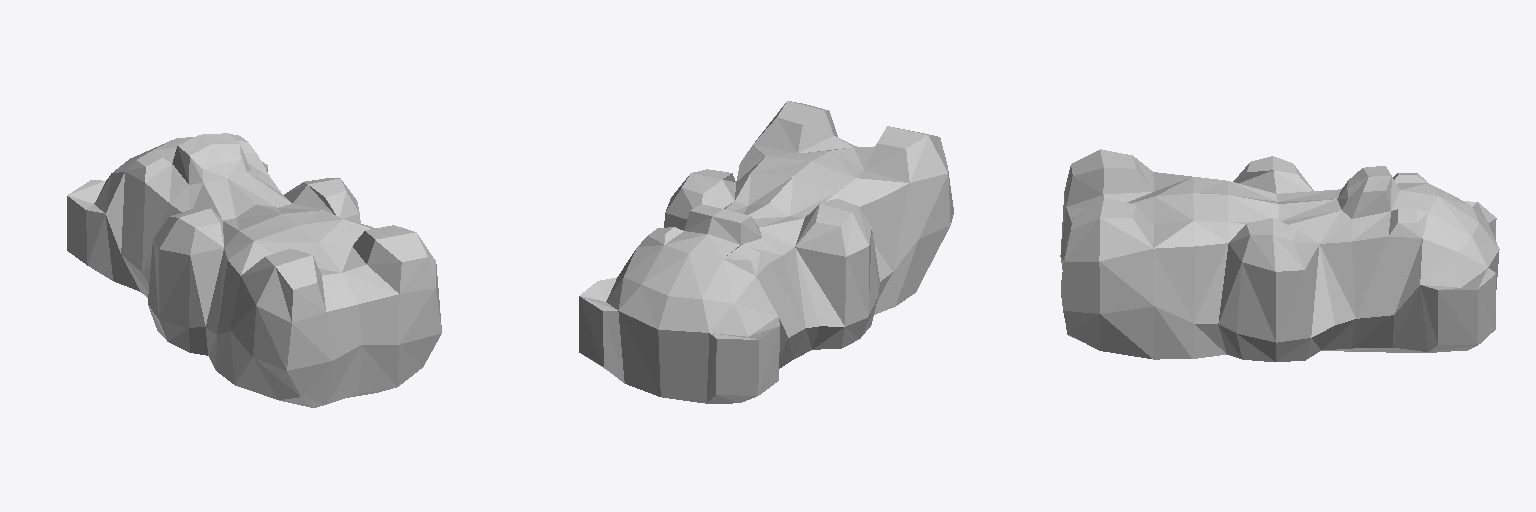
Rendered from gummy bear.obj.
3 renders of one model, left to right at view 1: azimuth 30°, elevation 25°; view 2: azimuth 150°, elevation 25°; view 3: azimuth 270°, elevation 25°, orthographic.
Parts seen in each view (by area): view 1: alt450; view 2: alt450; view 3: alt450.
Part boxes in pixels (bbox=[...]): alt450: bbox=[67, 133, 441, 407]; alt450: bbox=[579, 101, 953, 403]; alt450: bbox=[1060, 149, 1499, 361].
Size of the model in its own units: 1.71 by 1.33 by 3.28.